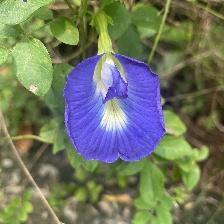shankupushpam: (62, 51, 169, 164)
